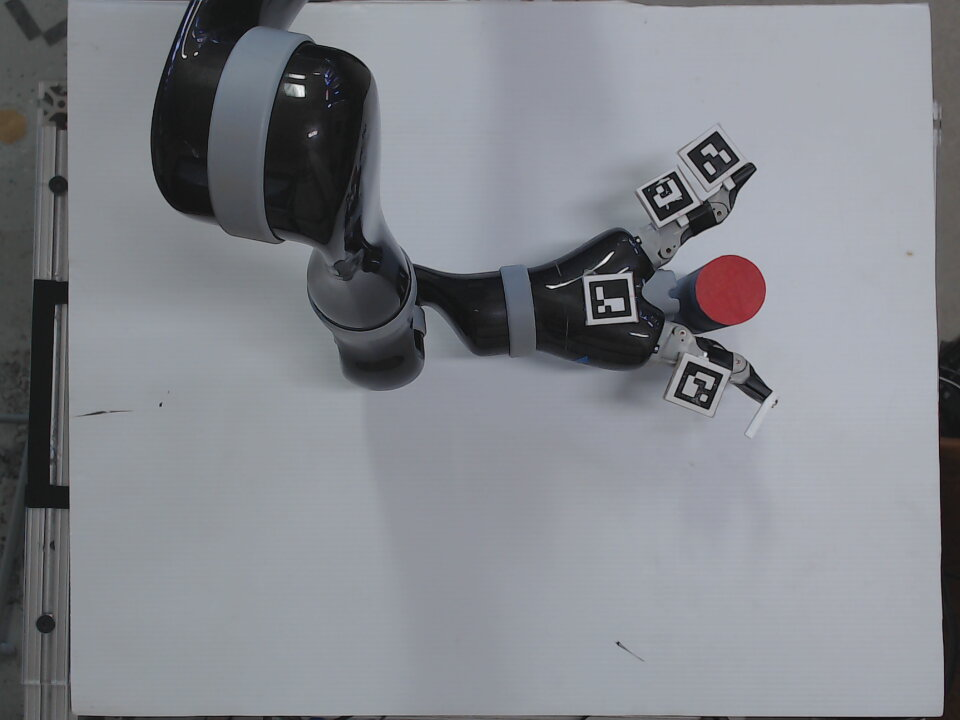cylinder: (678, 252, 771, 338)
